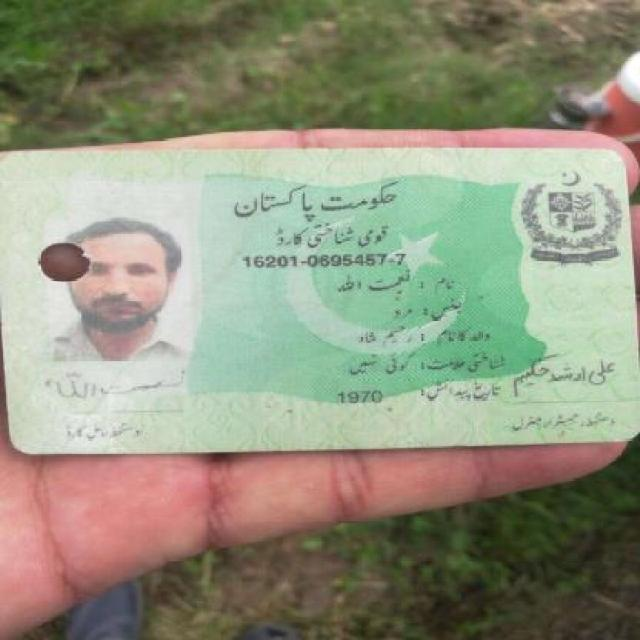Front: (4, 146, 624, 440)
